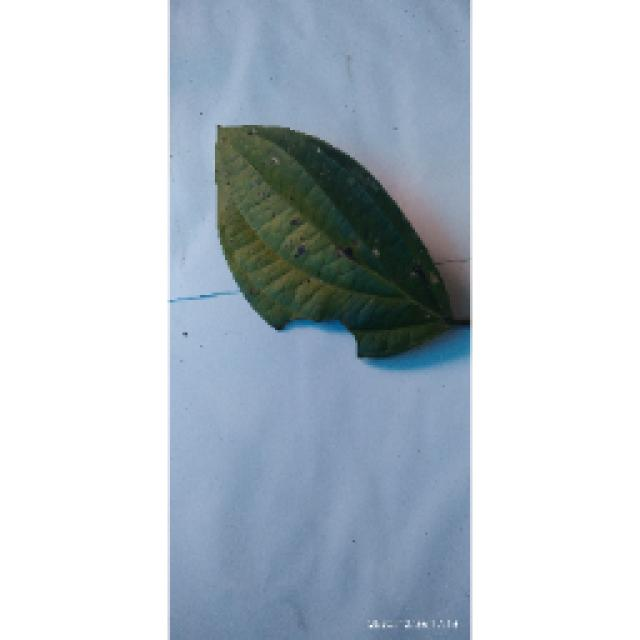slow-decline: (208, 122, 460, 352)
